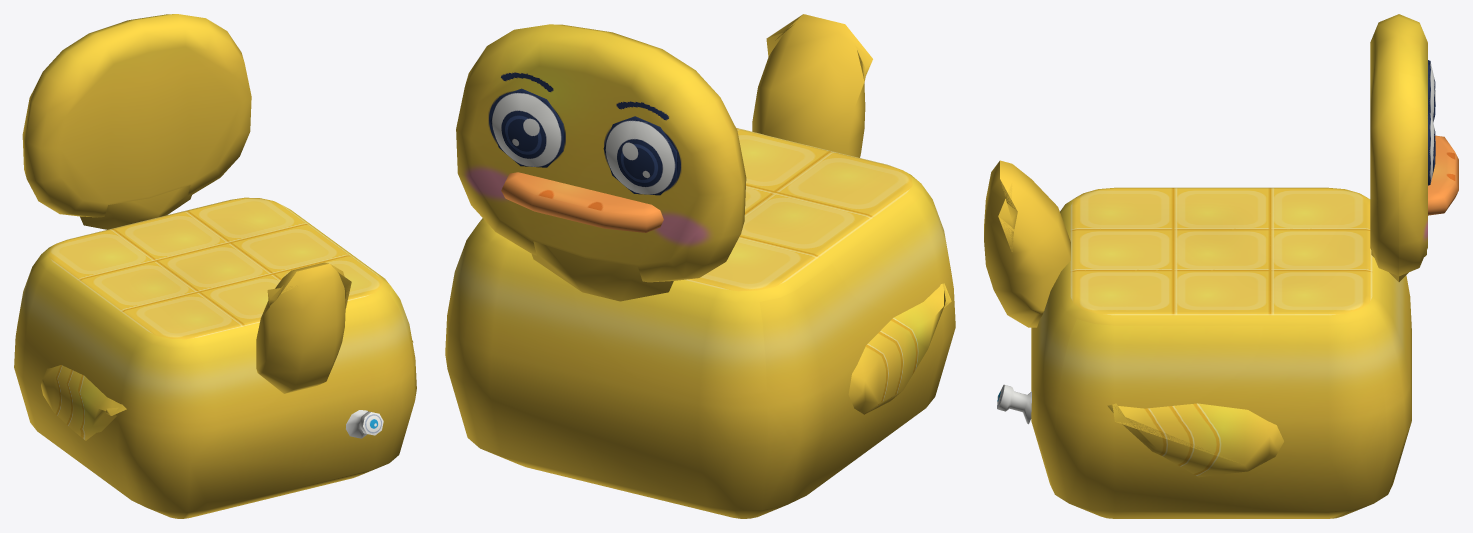
Rendered from pool_duck_mini_classic.glb.
The picture shows the model from 3 angles, left to right: view 1: azimuth 30°, elevation 25°; view 2: azimuth 150°, elevation 25°; view 3: azimuth 270°, elevation 25°; orthographic projection. The views are drawn at different scales.
Parts seen in each view (by area): view 1: pool_duck_mini_classic_LOD0; view 2: pool_duck_mini_classic_LOD0; view 3: pool_duck_mini_classic_LOD0.
Boxes of the visible parts, x1,y1,x2,y2 form: pool_duck_mini_classic_LOD0: (14,14,416,518); pool_duck_mini_classic_LOD0: (445,14,955,518); pool_duck_mini_classic_LOD0: (984,14,1458,518).
Size of the model in its own units: 5 by 6 by 6.
Materials: 1 (1 with a texture image).
